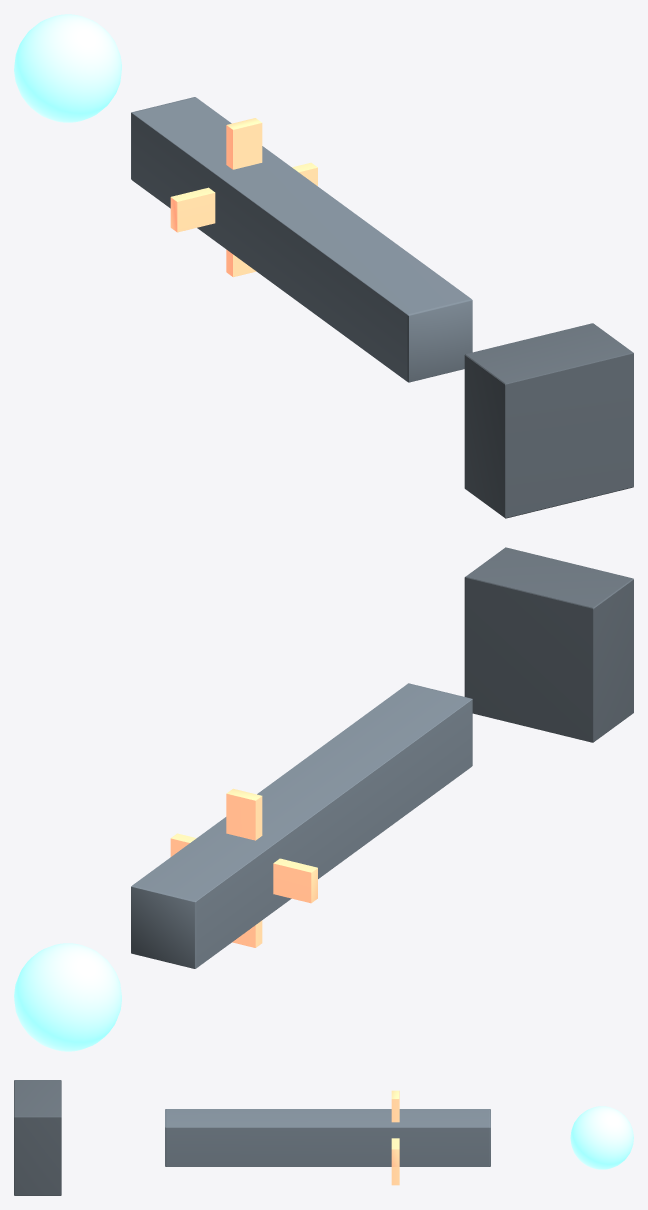
File: broken_halo_beacon.glb
The picture shows the model from 3 angles, top to bottom: view 1: azimuth 30°, elevation 25°; view 2: azimuth 150°, elevation 25°; view 3: azimuth 270°, elevation 25°; orthographic projection. The views are drawn at different scales.
Visible parts, largest first — view 1: BeaconStem, BeaconBase, BeaconTip, BeaconCrossB, BeaconCrossA; view 2: BeaconStem, BeaconBase, BeaconTip, BeaconCrossB, BeaconCrossA; view 3: BeaconStem, BeaconBase, BeaconTip, BeaconCrossB, BeaconCrossA.
Part boxes in pixels (x1,y1,x2,y2): BeaconStem: (131, 97, 472, 382); BeaconBase: (464, 323, 633, 518); BeaconTip: (14, 14, 121, 122); BeaconCrossB: (226, 118, 262, 277); BeaconCrossA: (170, 162, 317, 232); BeaconStem: (131, 683, 472, 968); BeaconBase: (464, 547, 633, 742); BeaconTip: (14, 943, 121, 1051); BeaconCrossB: (226, 788, 262, 947); BeaconCrossA: (170, 833, 317, 903); BeaconStem: (165, 1109, 490, 1166); BeaconBase: (14, 1080, 61, 1195); BeaconTip: (570, 1106, 633, 1169); BeaconCrossB: (391, 1090, 399, 1185); BeaconCrossA: (391, 1138, 399, 1166).
Size of the model in its own units: 0.24 by 0.24 by 1.56.
